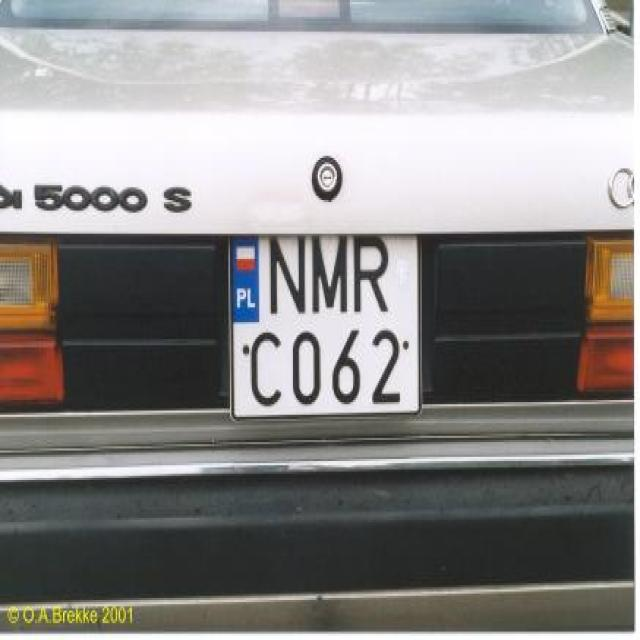pl_license_plate: (228, 234, 418, 411)
